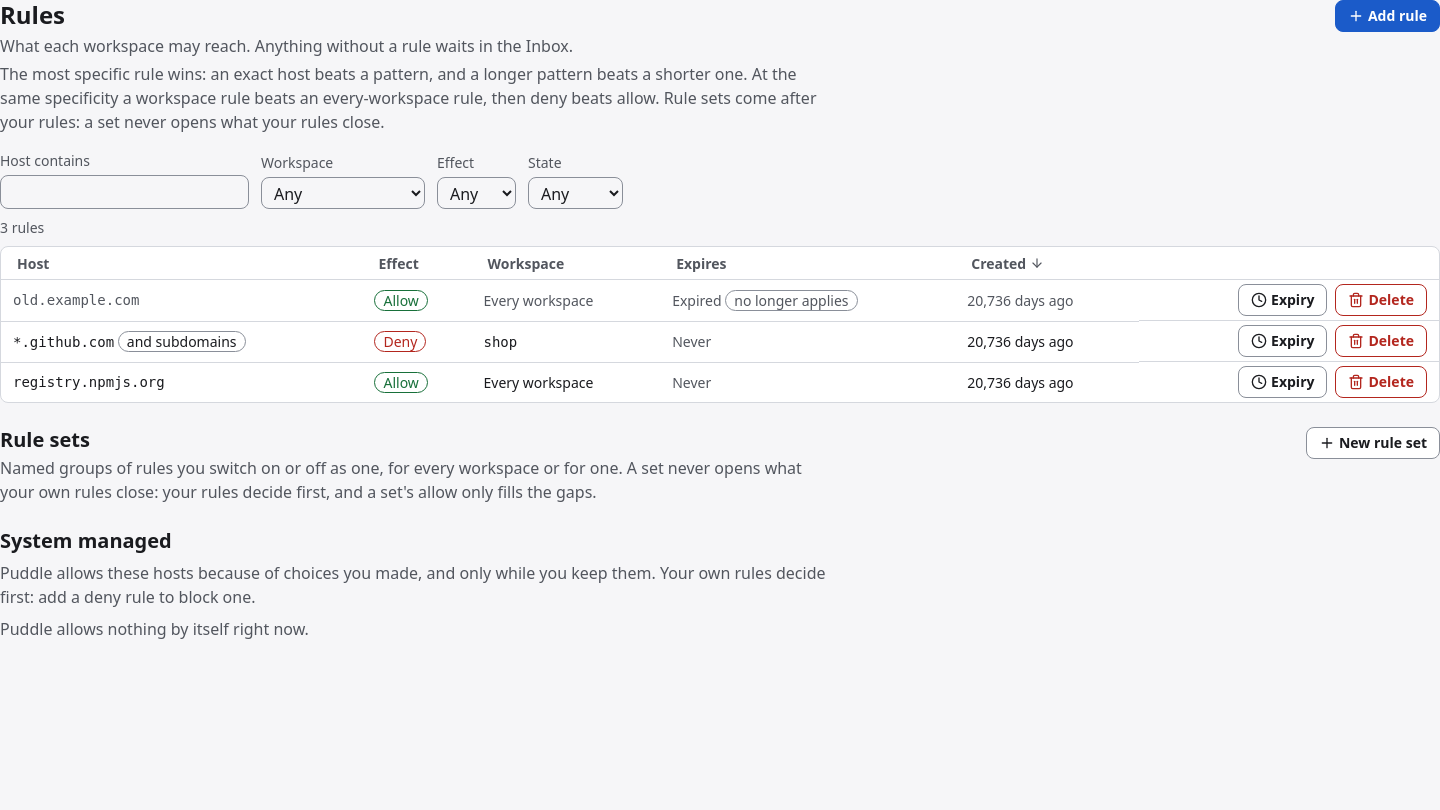
adding › adds a workspace rule with an expiry and says so
Click the button "Add rule" at x=1387, y=16, box x1=1335 y1=0 x2=1439 y2=32
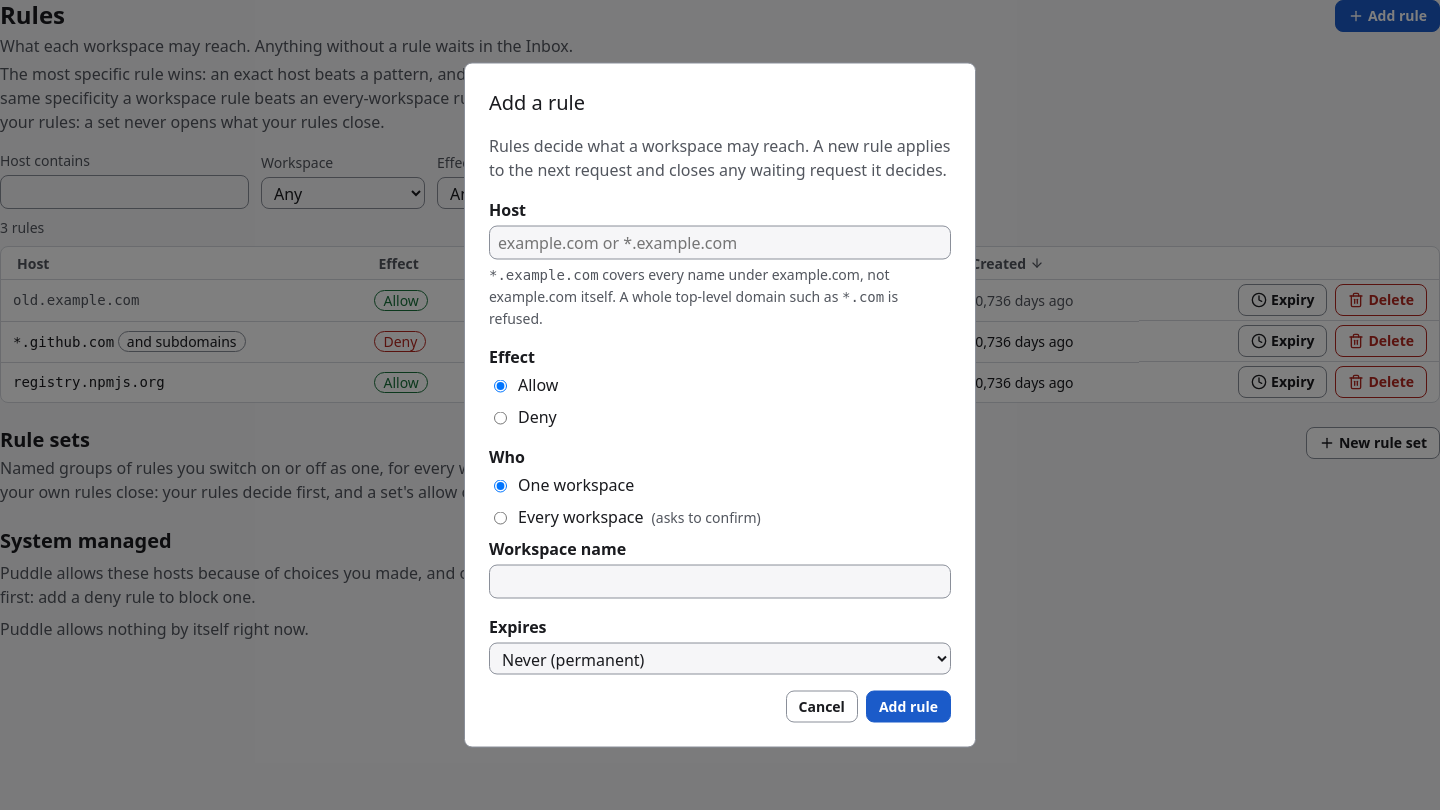
Type "  *.example.org " into the field labelled "Host" at x=720, y=242, box x1=489 y1=226 x2=951 y2=260
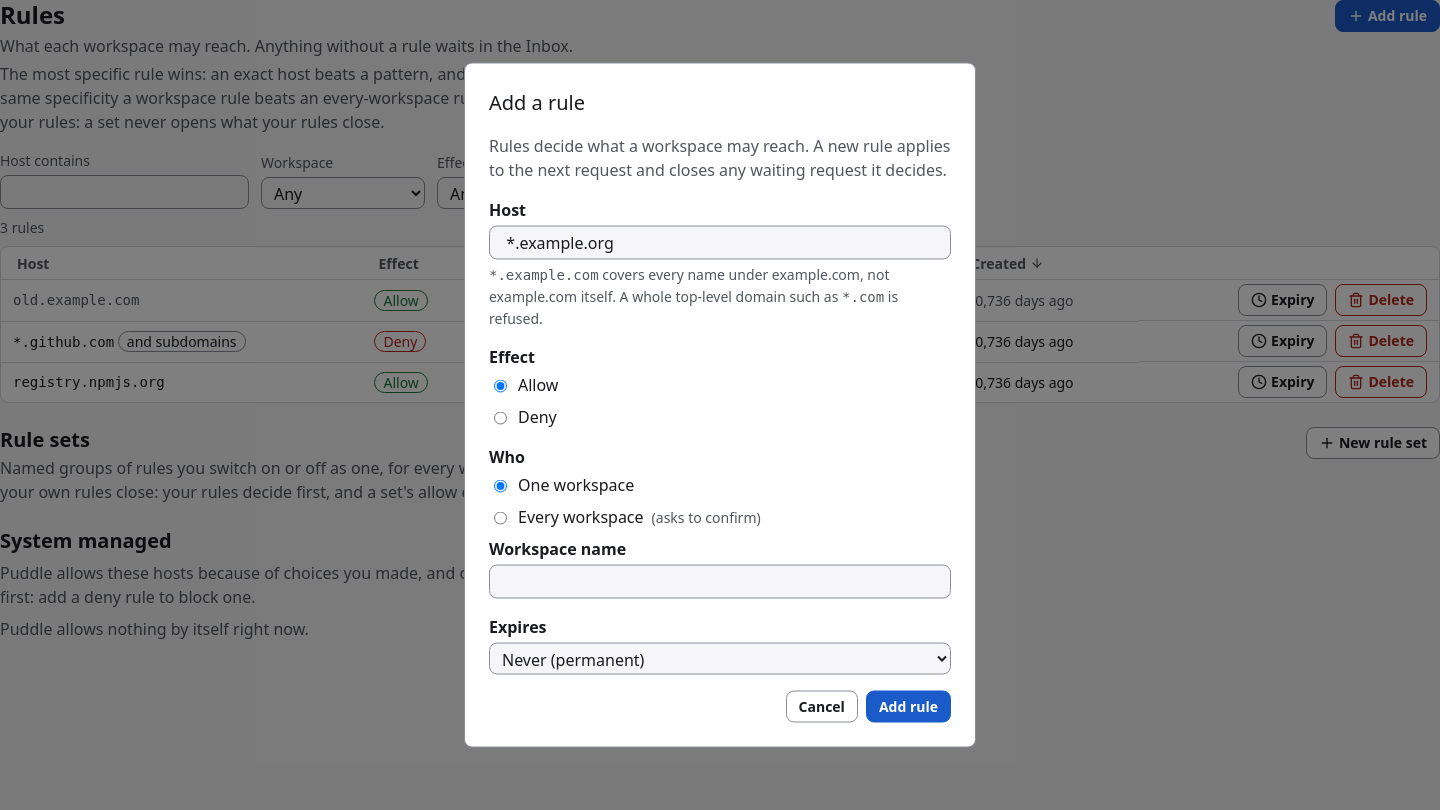
Type "shop" into the field labelled "Workspace name" at x=720, y=582, box x1=489 y1=564 x2=951 y2=598
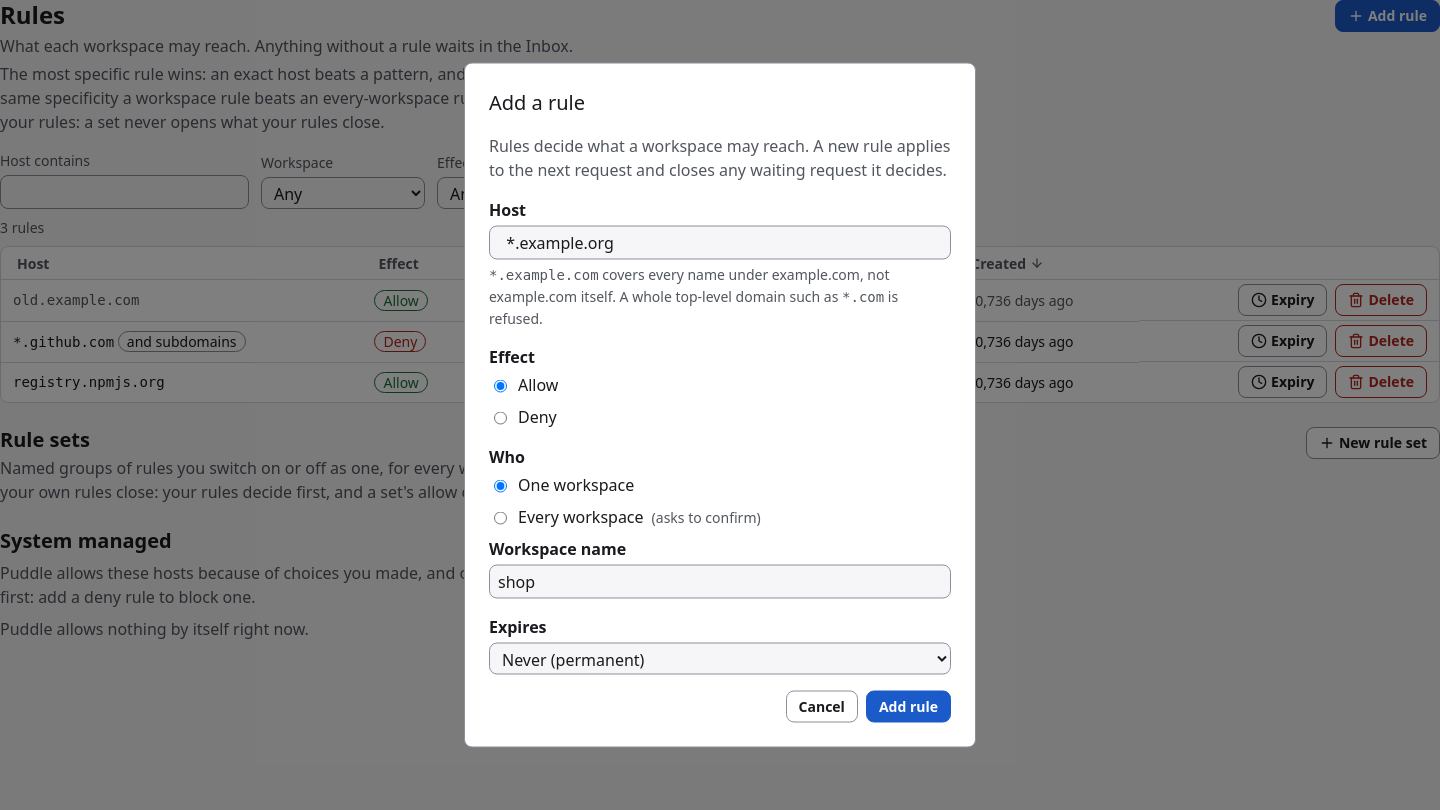
Click the radio button labelled "Deny" at x=500, y=418, box x1=494 y1=412 x2=507 y2=424
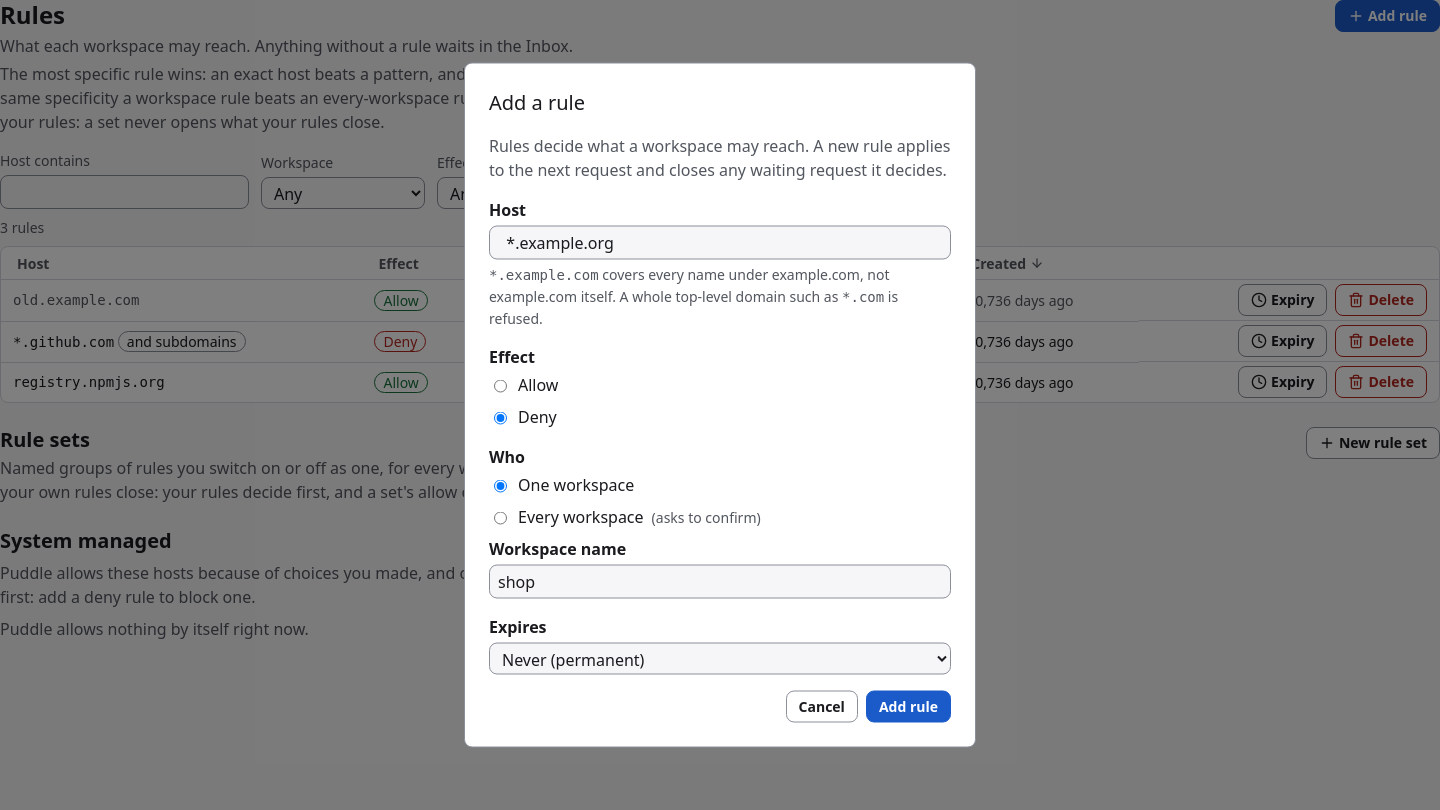
Select "In 1 hour" in the dropdown labelled "Expires" at x=720, y=658, box x1=489 y1=642 x2=951 y2=674
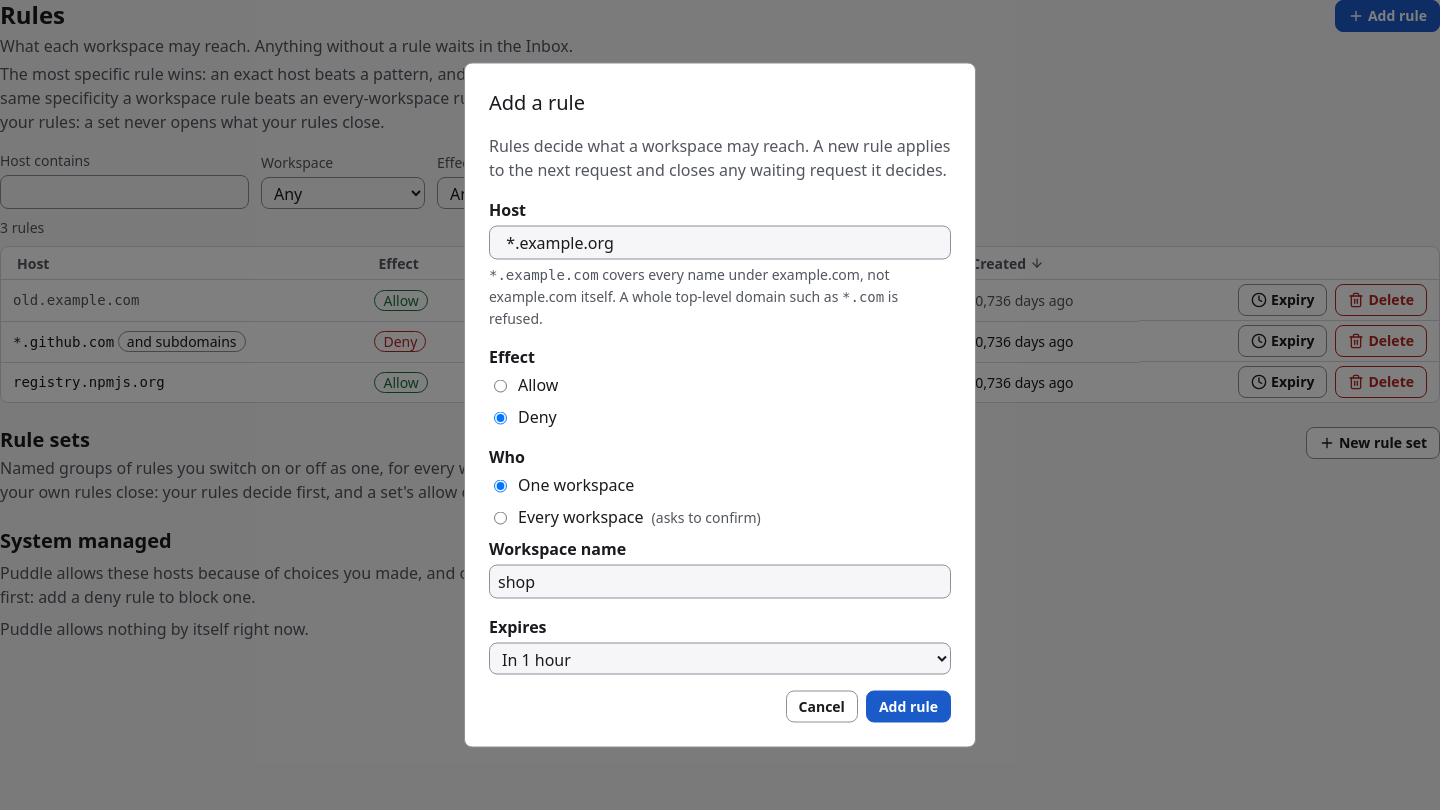
Click the button "Add rule" at x=908, y=706, box x1=866 y1=690 x2=951 y2=722
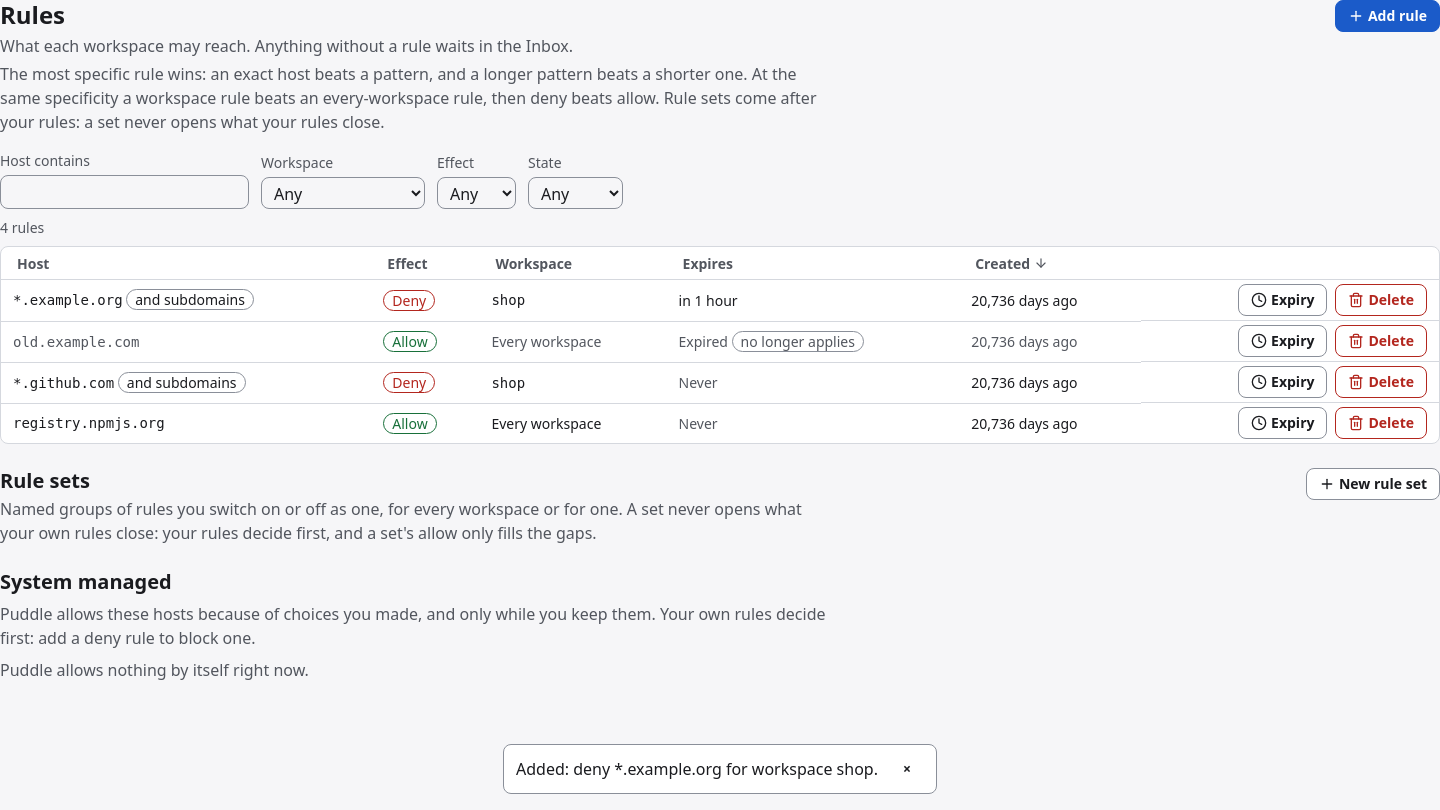
Now the dialog is gone
Now the text "Added: deny *.example.org for workspace shop." is shown, box x1=516 y1=757 x2=878 y2=781
